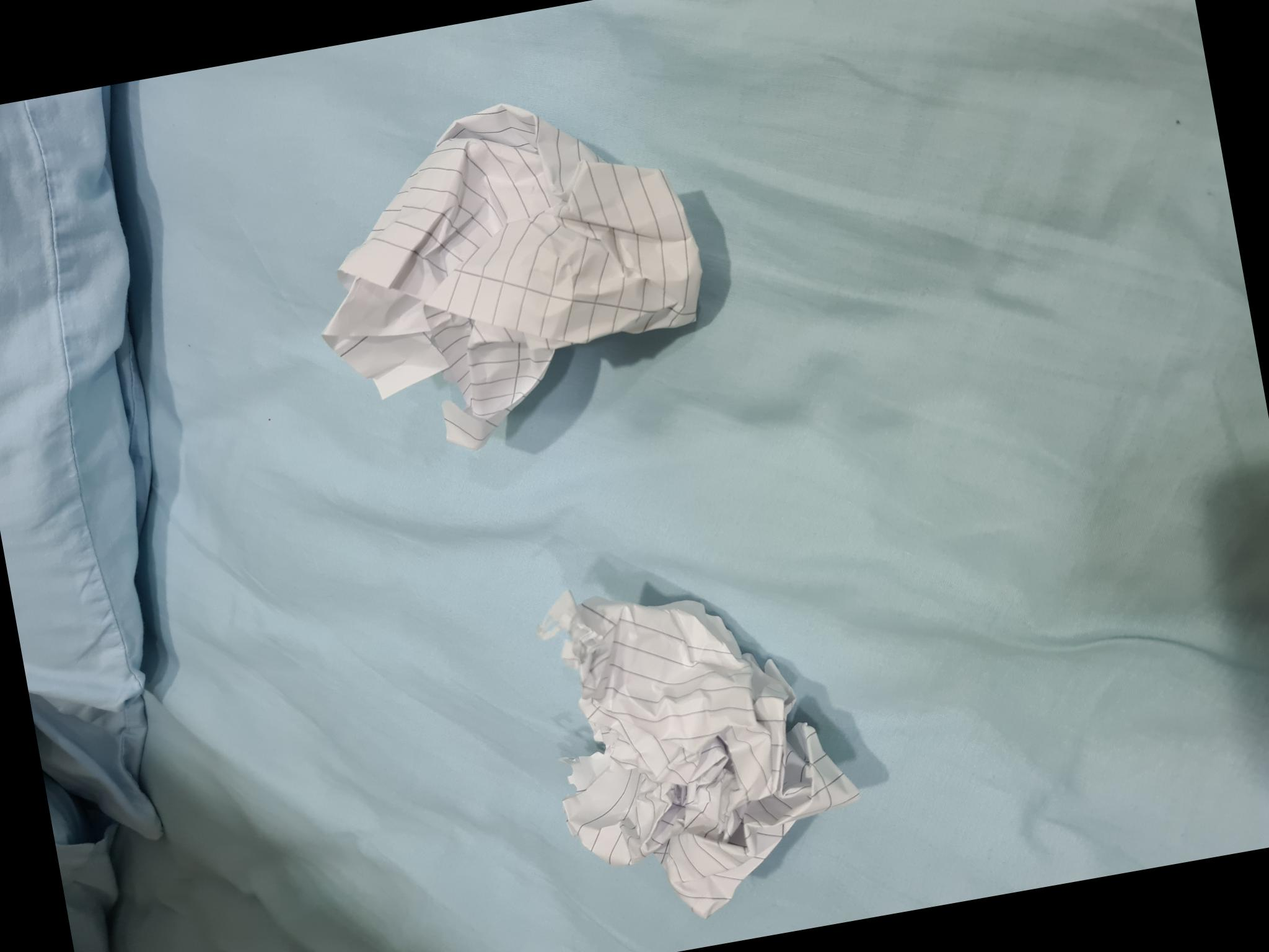Kertas: (533, 348, 877, 726), (65, 565, 390, 883)
